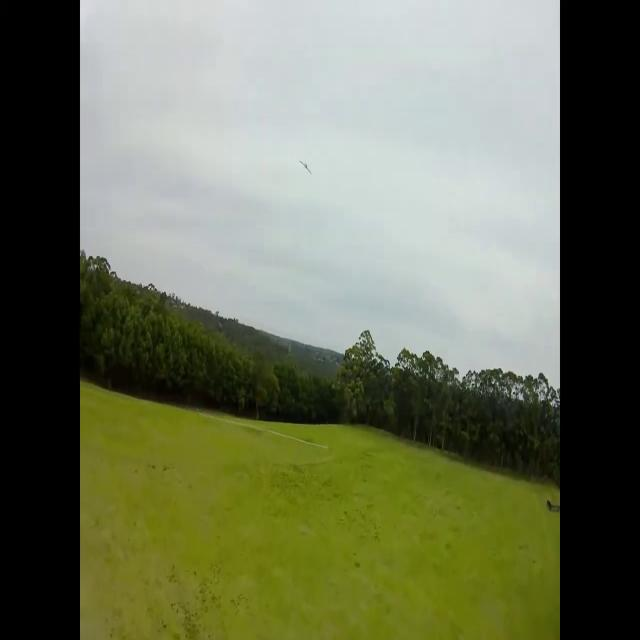iha: (304, 161, 308, 175)
